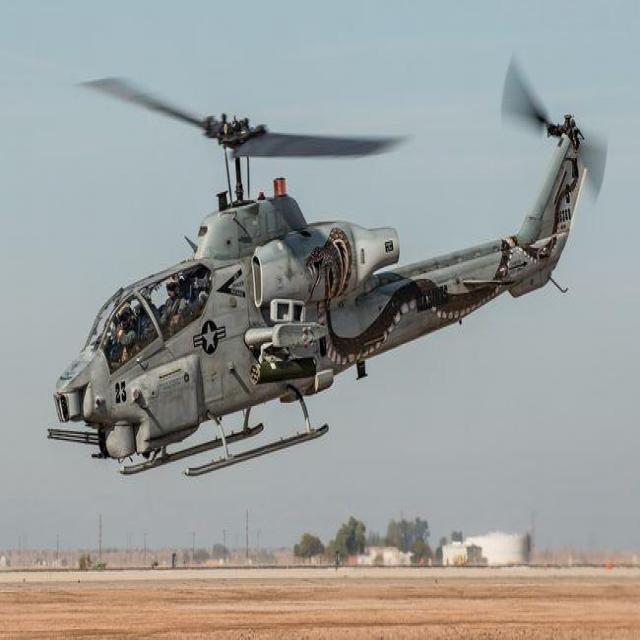MIL_HELO: (43, 53, 618, 474)
